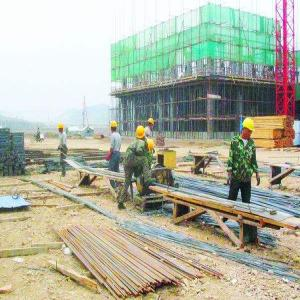yellow: (241, 120, 255, 140), (137, 125, 146, 142), (110, 120, 119, 135), (146, 138, 155, 153), (148, 117, 156, 130), (57, 123, 65, 135)
